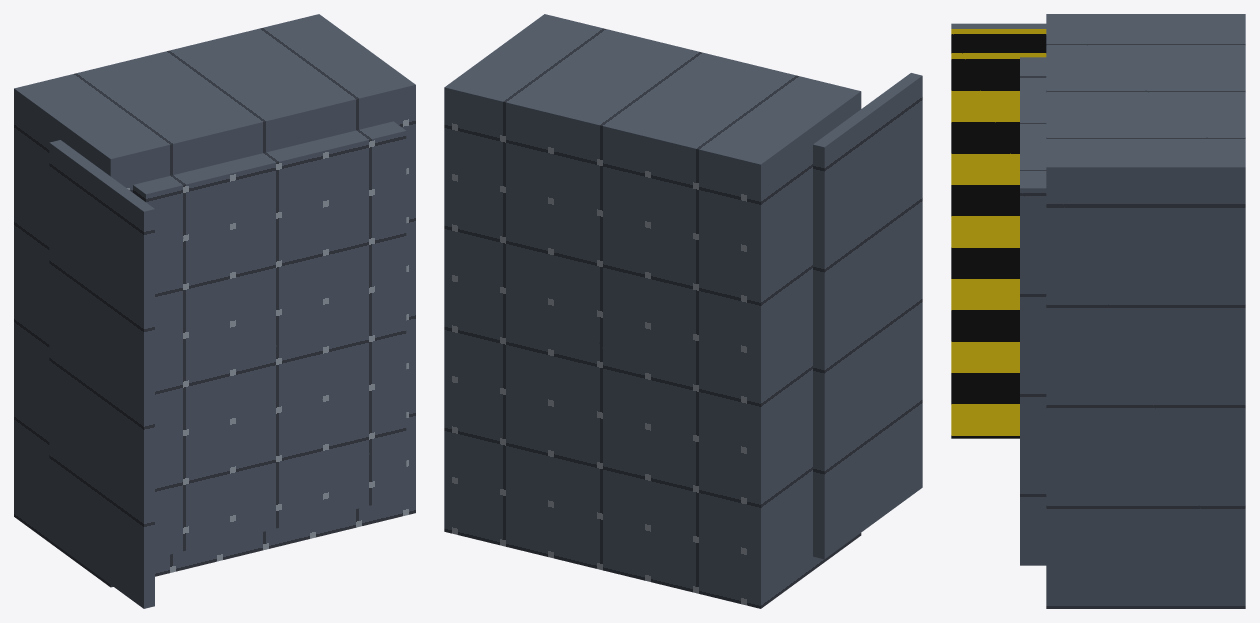
File: power_socket.glb
3 views of the same model, side by side, from view 1: azimuth 30°, elevation 25°; view 2: azimuth 150°, elevation 25°; view 3: azimuth 270°, elevation 25° (orthographic). The views are drawn at different scales.
Parts seen in each view (by area): view 1: power_socket; view 2: power_socket; view 3: power_socket.
Part boxes in pixels (x1,y1,x2,y2): power_socket: [14, 14, 415, 608]; power_socket: [444, 14, 922, 608]; power_socket: [951, 14, 1245, 608].
Size of the model in its own units: 0.855 by 1.1 by 0.665.
4 materials, 3 textured.
